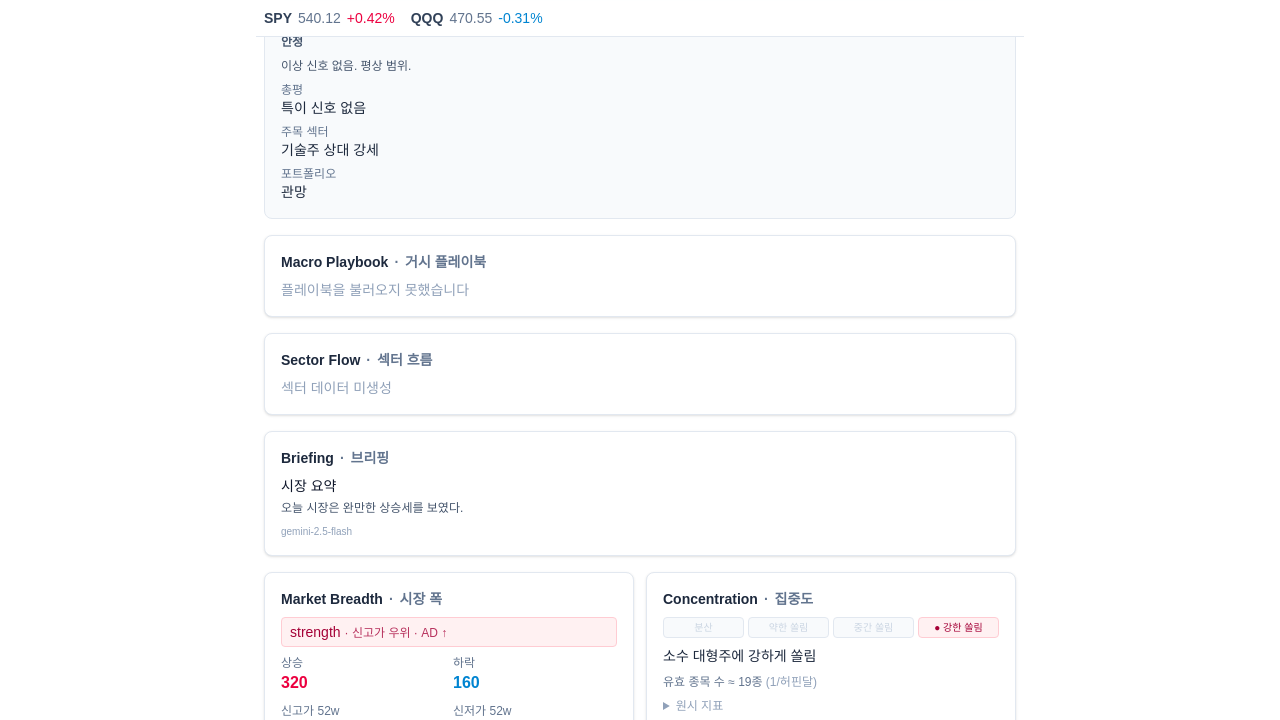
MarketPulseV2Page › 라우팅: Sector Flow 카드 → drawer 타이틀 "Sector Flow · 섹터 흐름"
The width and height of the screenshot is (1280, 720).
(page scrolled)
Click the text "Sector Flow": (321, 360) [281,352,360,368]
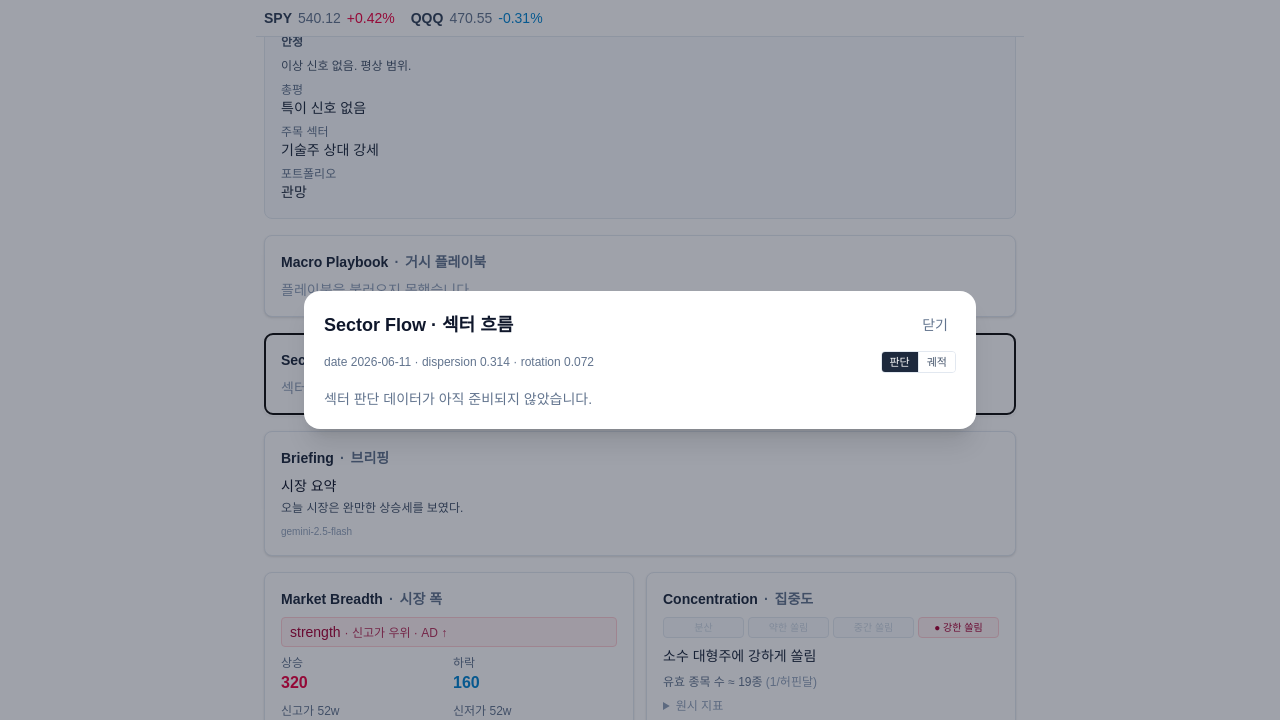
Check: the heading "Sector Flow · 섹터 흐름" is shown, box [324,311,513,339]
